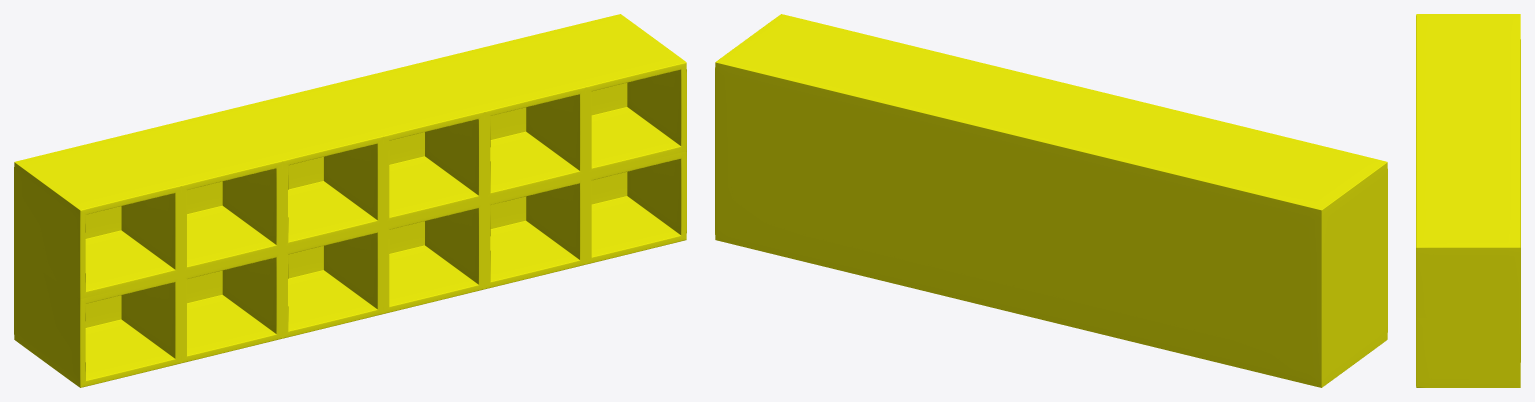
The model's file is CubbyHole1.fbx.
3 renders of one model, left to right at view 1: azimuth 30°, elevation 25°; view 2: azimuth 150°, elevation 25°; view 3: azimuth 270°, elevation 25°, orthographic. The views are drawn at different scales.
Parts seen in each view (by area): view 1: CubbyHole1_High; view 2: CubbyHole1_High; view 3: CubbyHole1_High.
Boxes of the visible parts, <box> form: CubbyHole1_High: <box>14,14,686,387</box>; CubbyHole1_High: <box>715,14,1387,387</box>; CubbyHole1_High: <box>1416,14,1520,387</box>.
Size of the model in its own units: 8.15 by 2.29 by 1.54.
